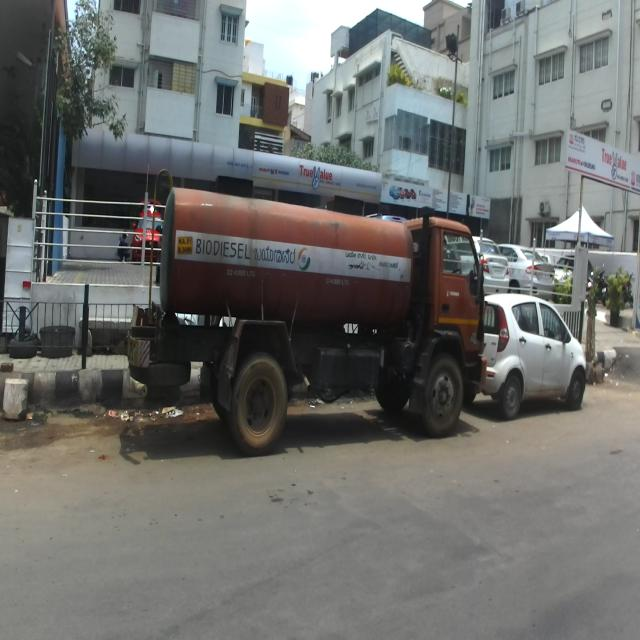car ahead at: (482, 267, 589, 426)
truck ahead at: (117, 165, 487, 451)
